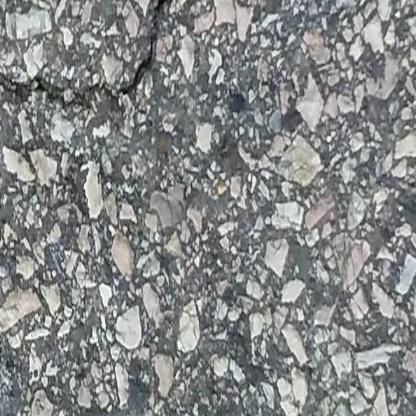Cracks: (92, 35, 158, 104), (0, 70, 62, 104), (151, 0, 183, 13)
